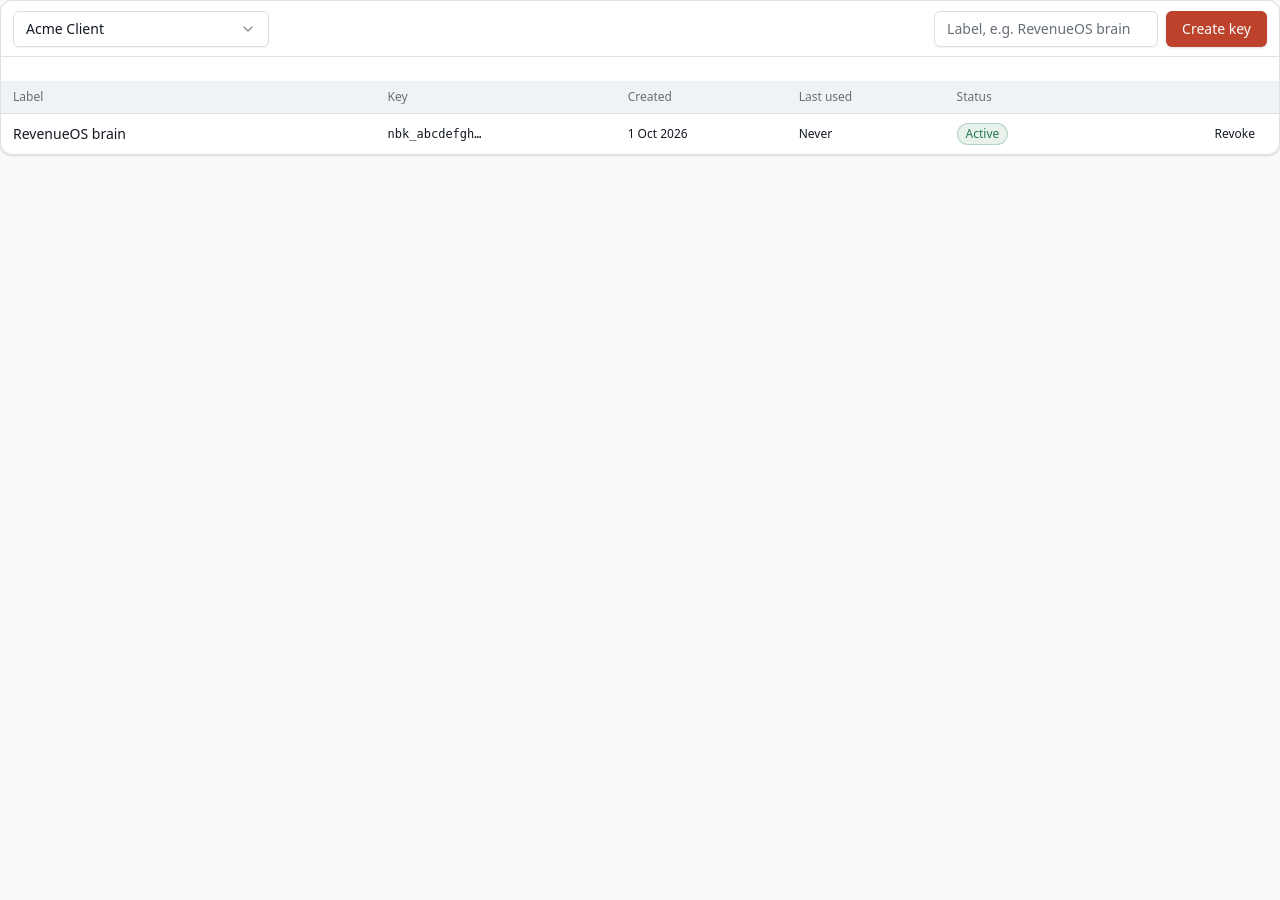
Scenario: admin brain keys tab › shows a new key once, then only its prefix
The width and height of the screenshot is (1280, 900).
Expected: the text "nbk_abcdefgh…" is shown, [388,127,482,141]
Type "Second" into the field named "Key label" at coordinates (1046, 28), box [934,10,1158,46]
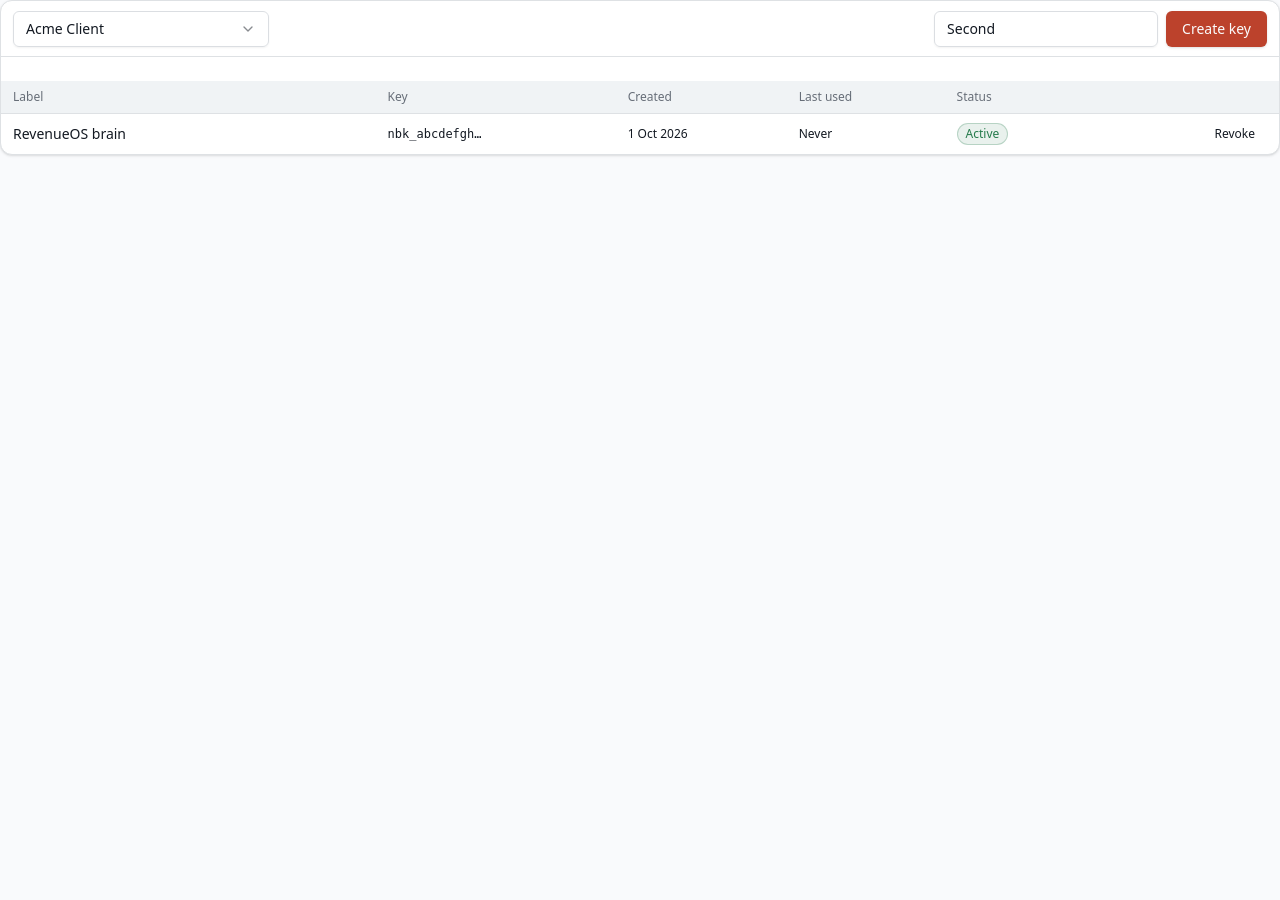
Click the button "Create key" at coordinates (1217, 28), box [1166,10,1267,46]
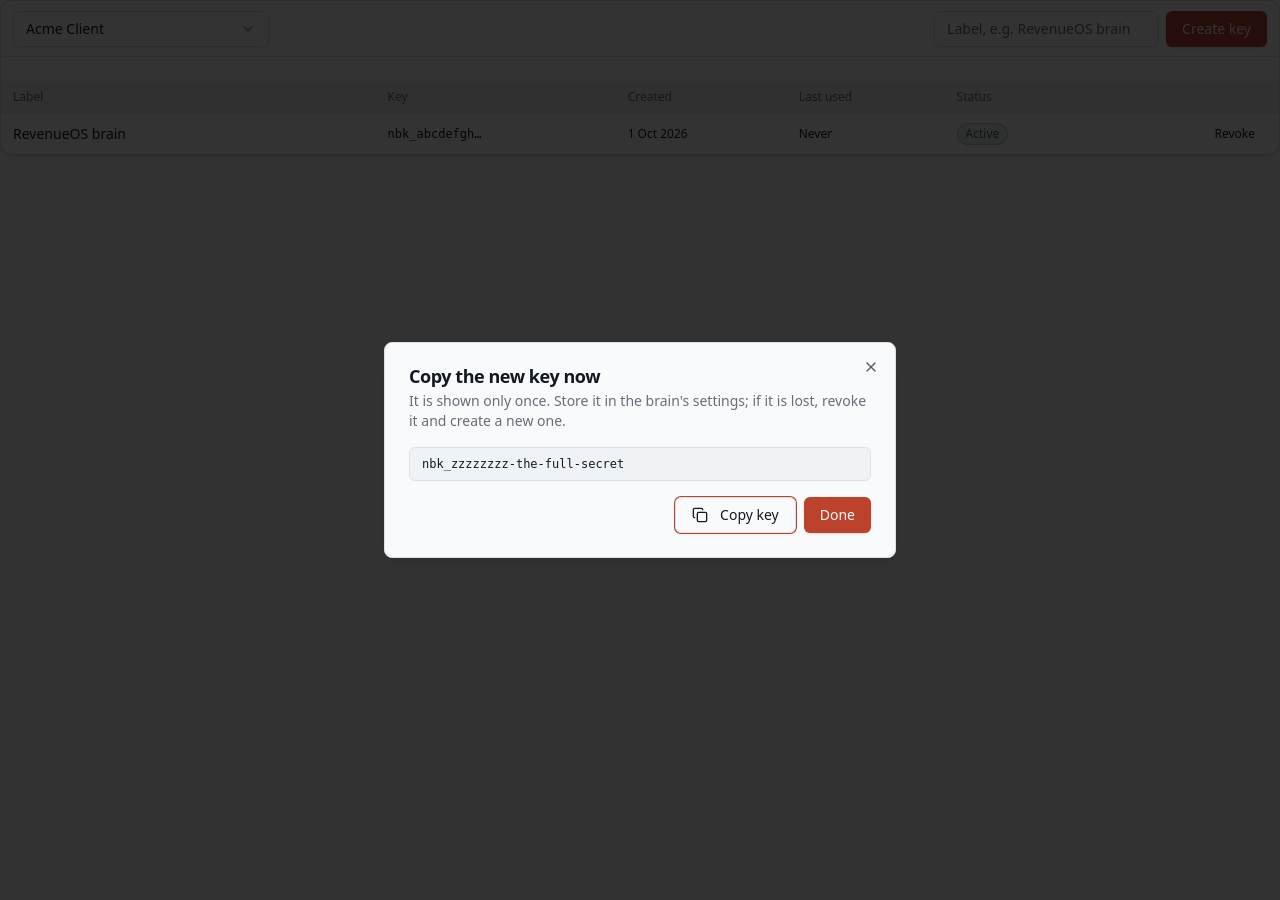
Now the text "nbk_zzzzzzzz-the-full-secret" is shown, box [409,447,871,481]
Now the button "Copy key" is shown, box [675,497,796,533]
Click the button "Done" at coordinates (837, 515), box [804,497,871,533]
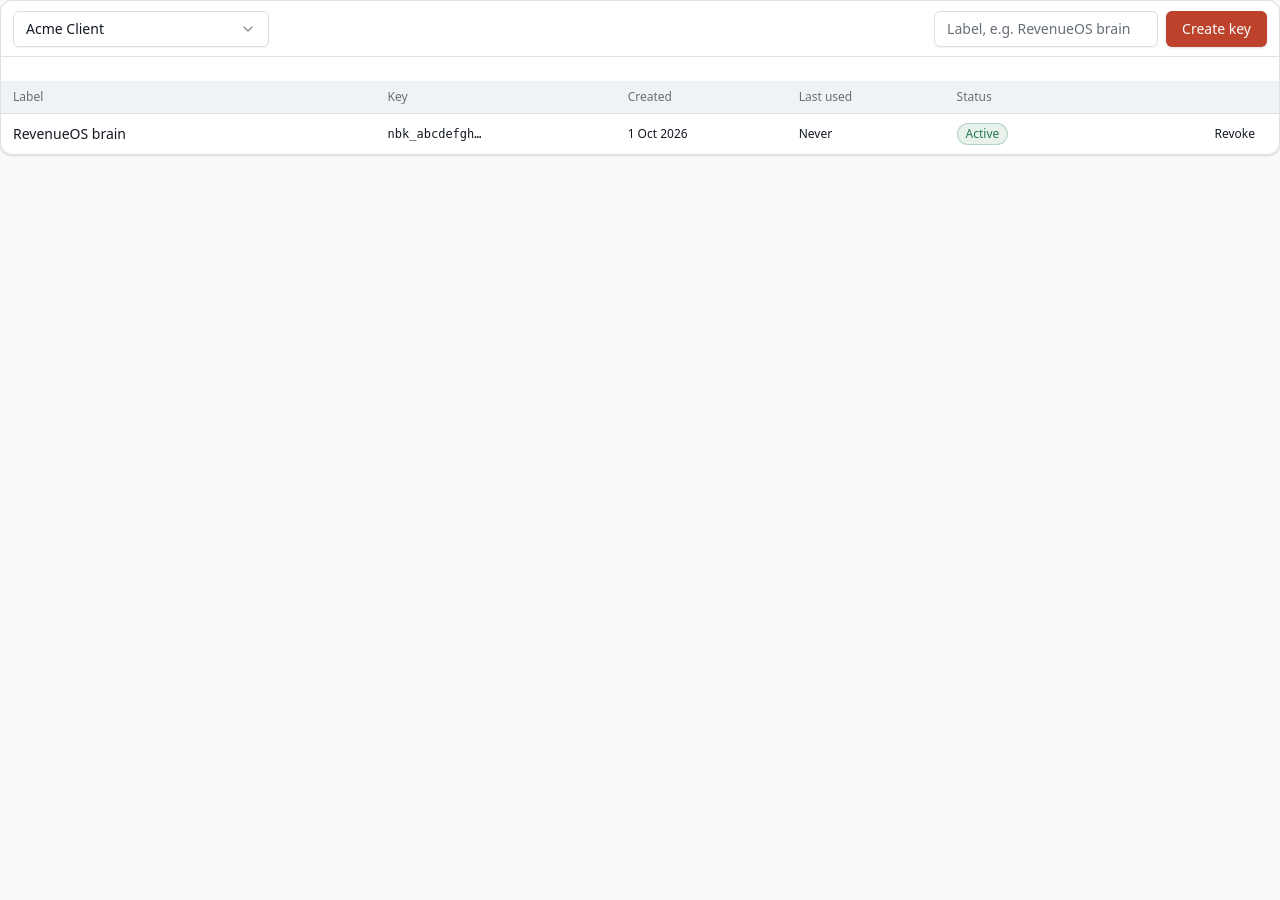
Now the text "nbk_zzzzzzzz-the-full-secret" is gone
